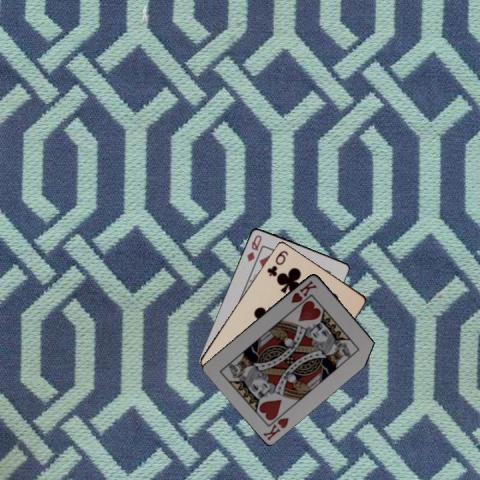6c: (264, 247, 289, 278)
Kh: (260, 414, 291, 441), (288, 277, 318, 304)
Qd: (243, 231, 264, 263)
